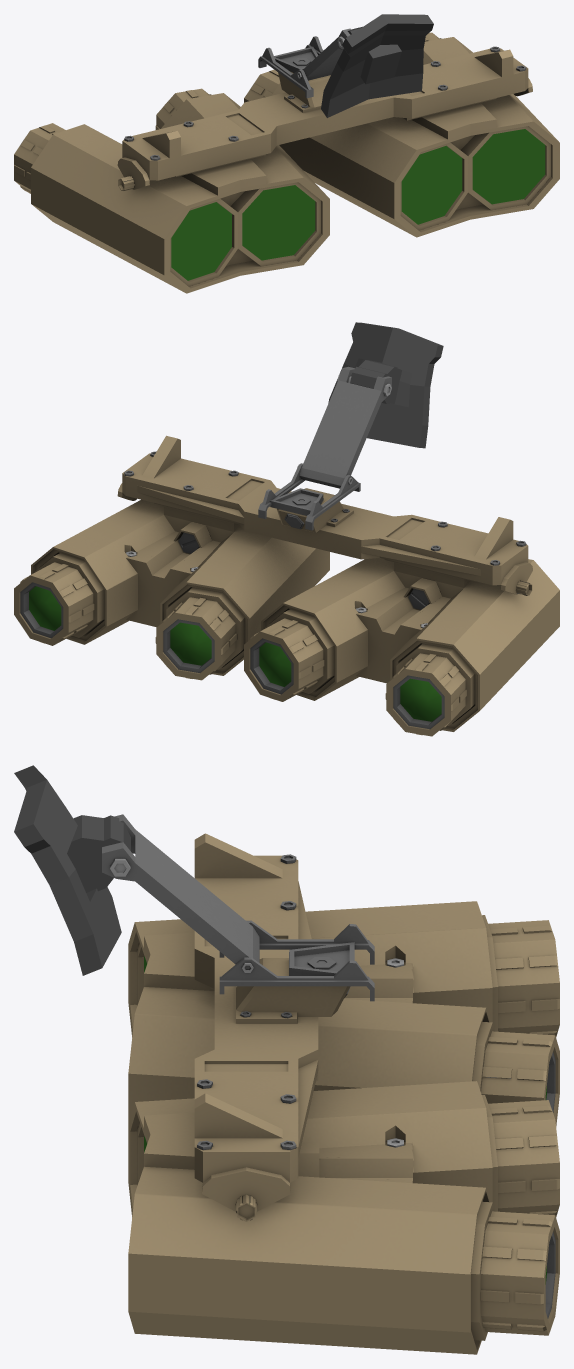
File: NVGoggles.fbx
3 views of the same model, one above another, from view 1: azimuth 30°, elevation 25°; view 2: azimuth 150°, elevation 25°; view 3: azimuth 270°, elevation 25° (orthographic). The views are drawn at different scales.
Parts seen in each view (by area): view 1: Goggles, helmet.001; view 2: Goggles, helmet.001; view 3: Goggles, helmet.001.
Boxes of the visible parts, bbox=[...] form: Goggles: bbox=[14, 28, 559, 293]; helmet.001: bbox=[321, 14, 433, 117]; Goggles: bbox=[14, 366, 559, 736]; helmet.001: bbox=[328, 322, 443, 448]; Goggles: bbox=[102, 814, 559, 1354]; helmet.001: bbox=[14, 765, 130, 975].
Size of the model in its own units: 29.84 by 16.41 by 19.61.
